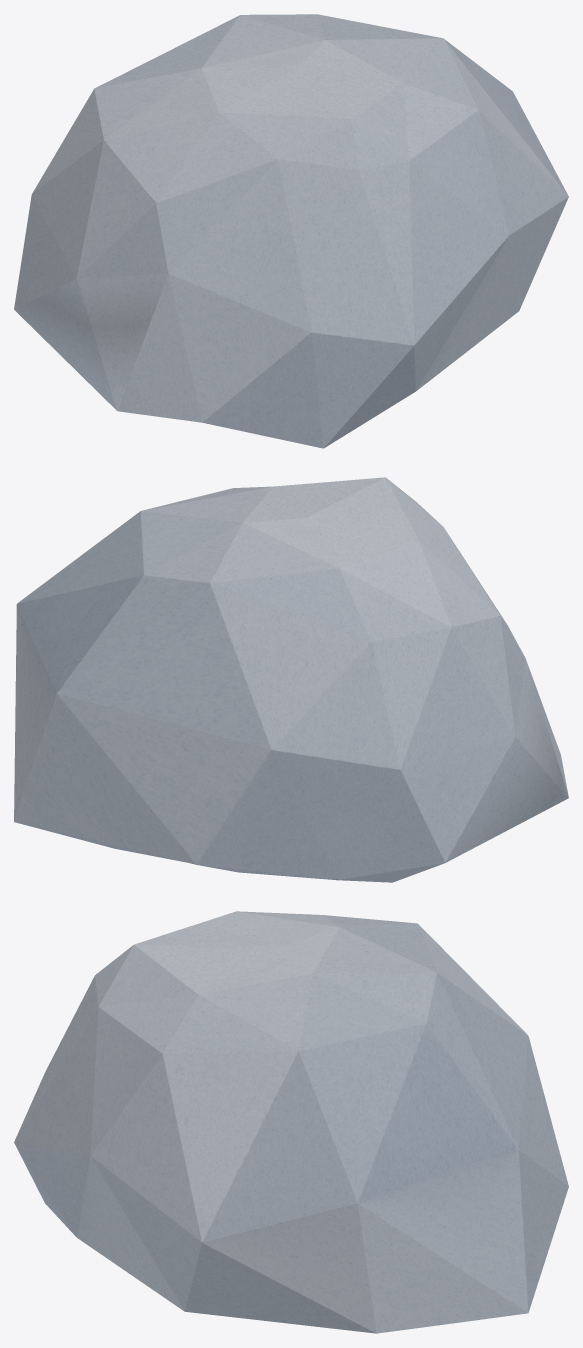
File: stone_sea2.glb
The picture shows the model from 3 angles, top to bottom: view 1: azimuth 30°, elevation 25°; view 2: azimuth 150°, elevation 25°; view 3: azimuth 270°, elevation 25°; orthographic projection. The views are drawn at different scales.
Visible parts, largest first — view 1: Icosphere.003; view 2: Icosphere.003; view 3: Icosphere.003.
Part boxes in pixels (<box>): Icosphere.003: <box>14,14,568,448</box>; Icosphere.003: <box>14,477,568,882</box>; Icosphere.003: <box>14,911,568,1333</box>.
Bounding box in the file's own units: 0.9264 × 0.624 × 0.8881.
Materials: 1 (1 with a texture image).
